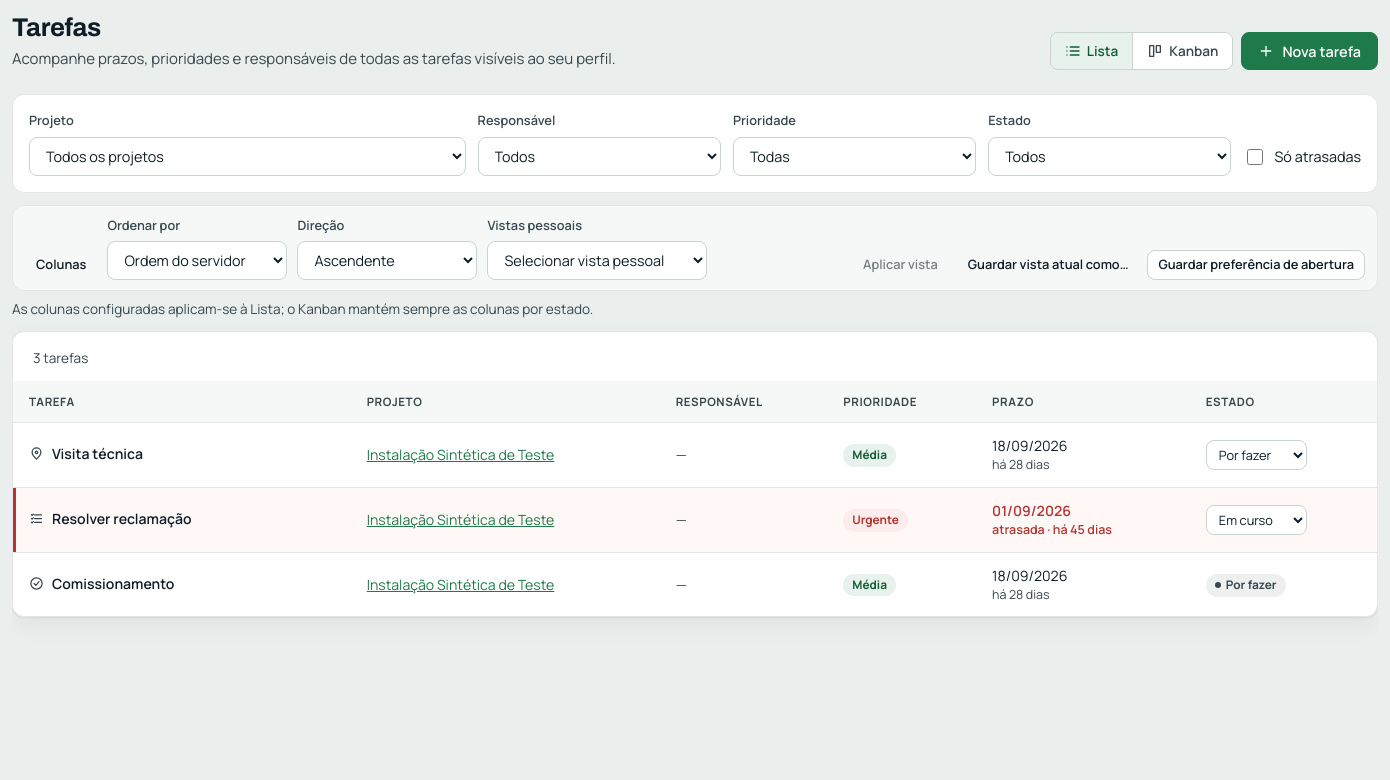
Scenario: Tasks › vista Kanban agrupa as tarefas por estado
The image size is (1390, 780).
Expected: the text "Resolver reclamação" is shown, [29,508,192,529]
Step 1. Click the button "Kanban" → coordinates (1182, 52), box [1132,34,1232,70]
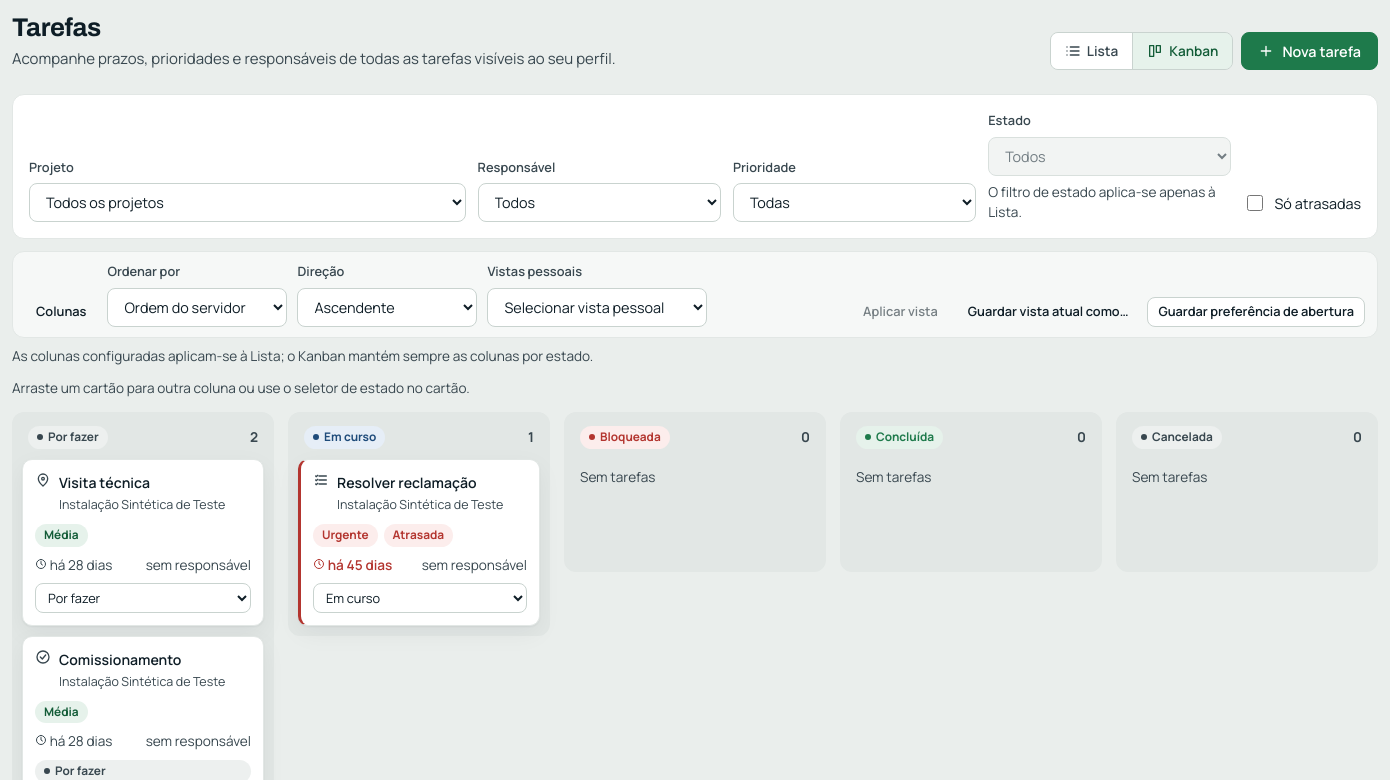
Expected: the text "Visita técnica" is shown, [59,473,150,492]
Expected: the element named "Em curso (1)" is shown, [288,412,550,636]
